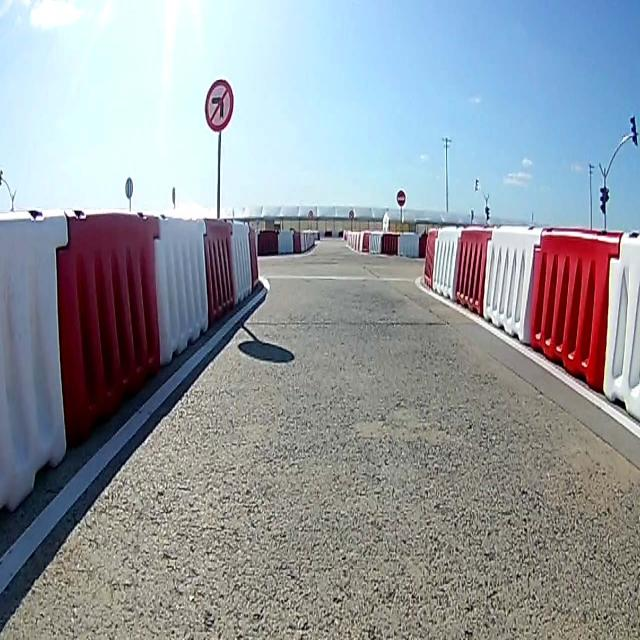girisyok: (396, 188, 406, 208)
soladonulmez: (204, 79, 234, 133)
